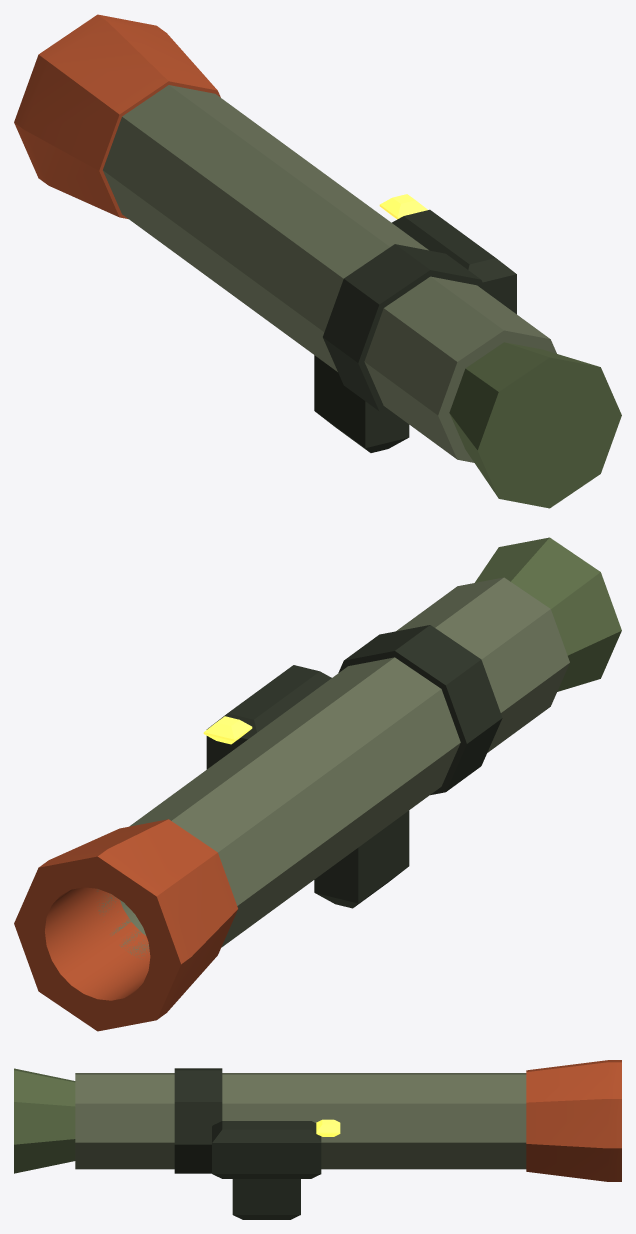
Rendered from w_b_raid_jg_bazooka.glb.
3 views of the same model, one above another, from view 1: azimuth 30°, elevation 25°; view 2: azimuth 150°, elevation 25°; view 3: azimuth 270°, elevation 25° (orthographic). The views are drawn at different scales.
Visible parts, largest first — view 1: weapon_team_color, weapon_body, weapon; view 2: weapon_body, weapon_team_color, weapon; view 3: weapon_team_color, weapon_body, weapon.
Part boxes in pixels (<box>): weapon_team_color: <box>103,85,556,462</box>; weapon_body: <box>14,14,621,508</box>; weapon: <box>379,194,427,219</box>; weapon_body: <box>14,537,621,1031</box>; weapon_team_color: <box>97,577,569,959</box>; weapon: <box>203,716,252,744</box>; weapon_team_color: <box>75,1073,526,1169</box>; weapon_body: <box>14,1060,621,1219</box>; weapon: <box>316,1119,340,1136</box>.
Bounding box in the file's own units: 1.35 × 1.5 × 5.34.
